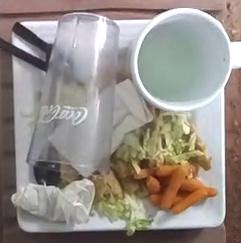carrots: (136, 165, 216, 214)
lettuce: (111, 110, 211, 194), (91, 170, 152, 236)
